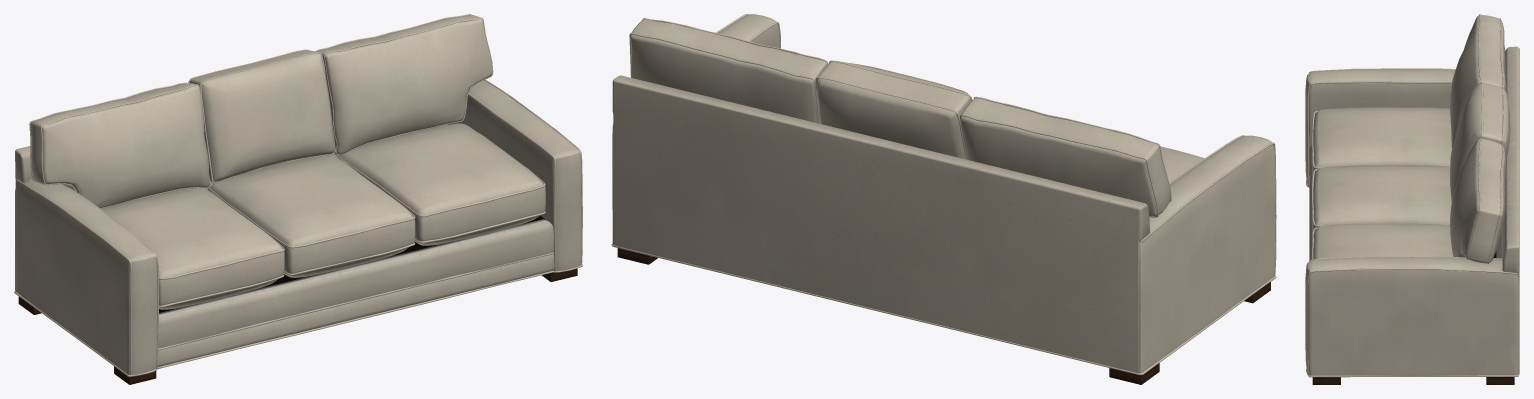
Rendered from sectional_abo_B071SLGYB3.glb.
3 views of the same model, side by side, from view 1: azimuth 30°, elevation 25°; view 2: azimuth 150°, elevation 25°; view 3: azimuth 270°, elevation 25° (orthographic). The views are drawn at different scales.
Parts seen in each view (by area): view 1: RootNode; view 2: RootNode; view 3: RootNode.
Part boxes in pixels (<box>): RootNode: <box>14,14,582,384</box>; RootNode: <box>611,14,1276,384</box>; RootNode: <box>1305,14,1519,384</box>.
Bounding box in the file's own units: 2.09 × 0.8623 × 0.9354.
Materials: 1 (1 with a texture image).
